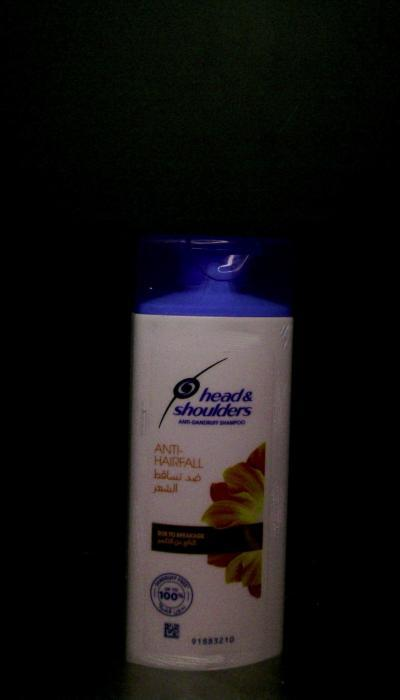scuff_marg: (143, 648, 234, 672), (206, 323, 266, 358), (128, 492, 150, 562), (267, 484, 289, 538), (134, 395, 156, 442), (272, 377, 292, 427), (276, 320, 292, 356)
